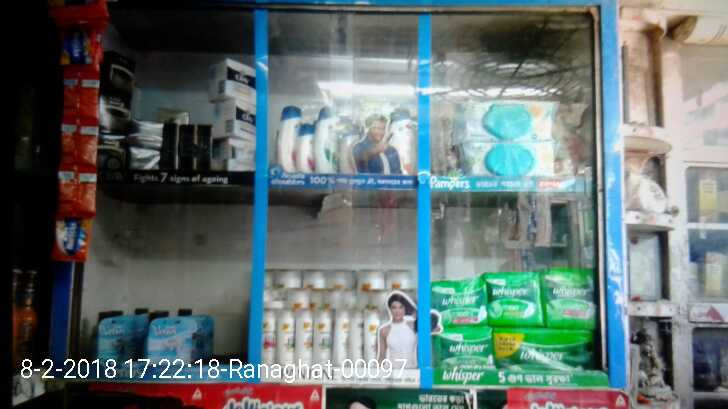venus: (145, 319, 194, 363), (99, 317, 145, 363), (199, 317, 215, 358)
